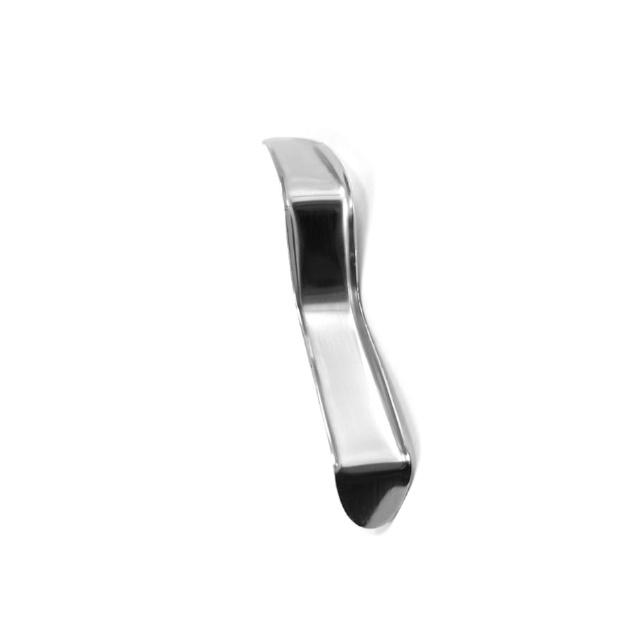separador: (263, 137, 412, 532)
